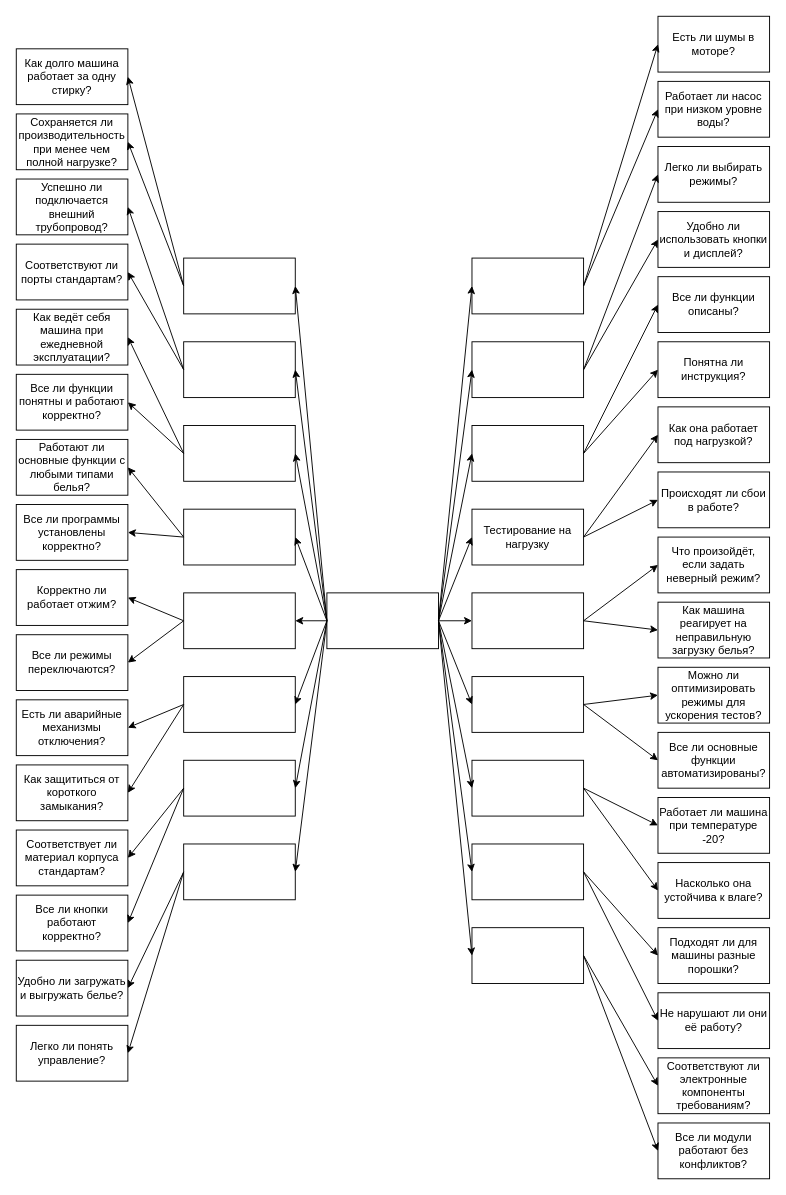
The diagram is 786 pixels wide and 1195 high, and some of its shapes have lost their labels. The box of each missing label's shape, as (x1, y1, x2, y2) in pixels:
Автоматизированное тестирование: (471, 676, 584, 732)
Бета-тестирование: (183, 425, 295, 481)
Валидация: (471, 759, 584, 816)
Верификация: (183, 759, 295, 816)
Стиральная машина: (326, 592, 438, 649)
Тестирование без знания структуры: (183, 508, 295, 565)
Тестирование безопасности: (183, 676, 295, 732)
Тестирование входных точек: (183, 341, 295, 398)
Тестирование документации: (471, 425, 584, 481)
Тестирование интеграции: (471, 927, 584, 983)
Тестирование интерфейса: (471, 341, 584, 398)
Тестирование компонентов: (471, 257, 584, 314)
Тестирование на ошибки: (471, 592, 584, 649)
Тестирование производительности: (183, 257, 295, 314)
Тестирование совместимости: (471, 843, 584, 900)
Тестирование удобства использования: (183, 843, 295, 900)
Функциональное тестирование: (183, 592, 295, 649)
